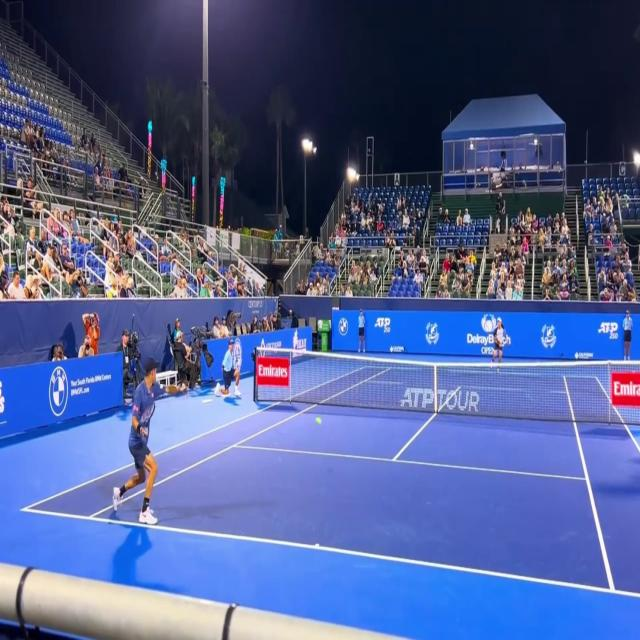tennisBall: (313, 406, 328, 446)
